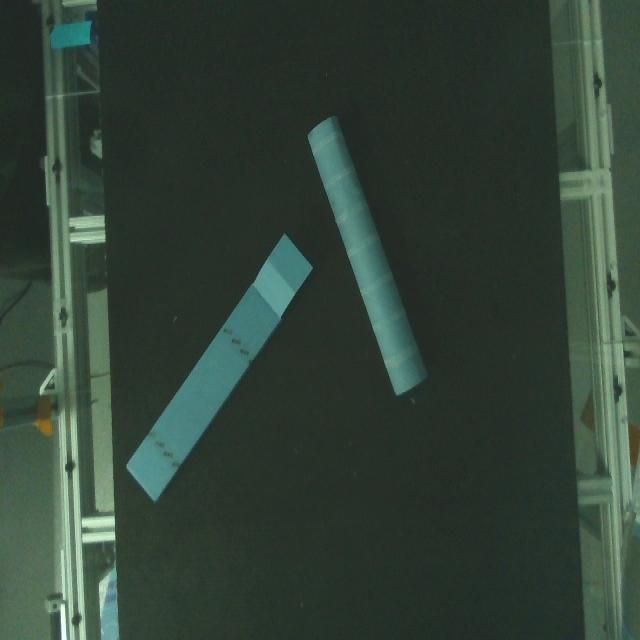paper: (126, 228, 317, 506), (302, 119, 436, 411)
